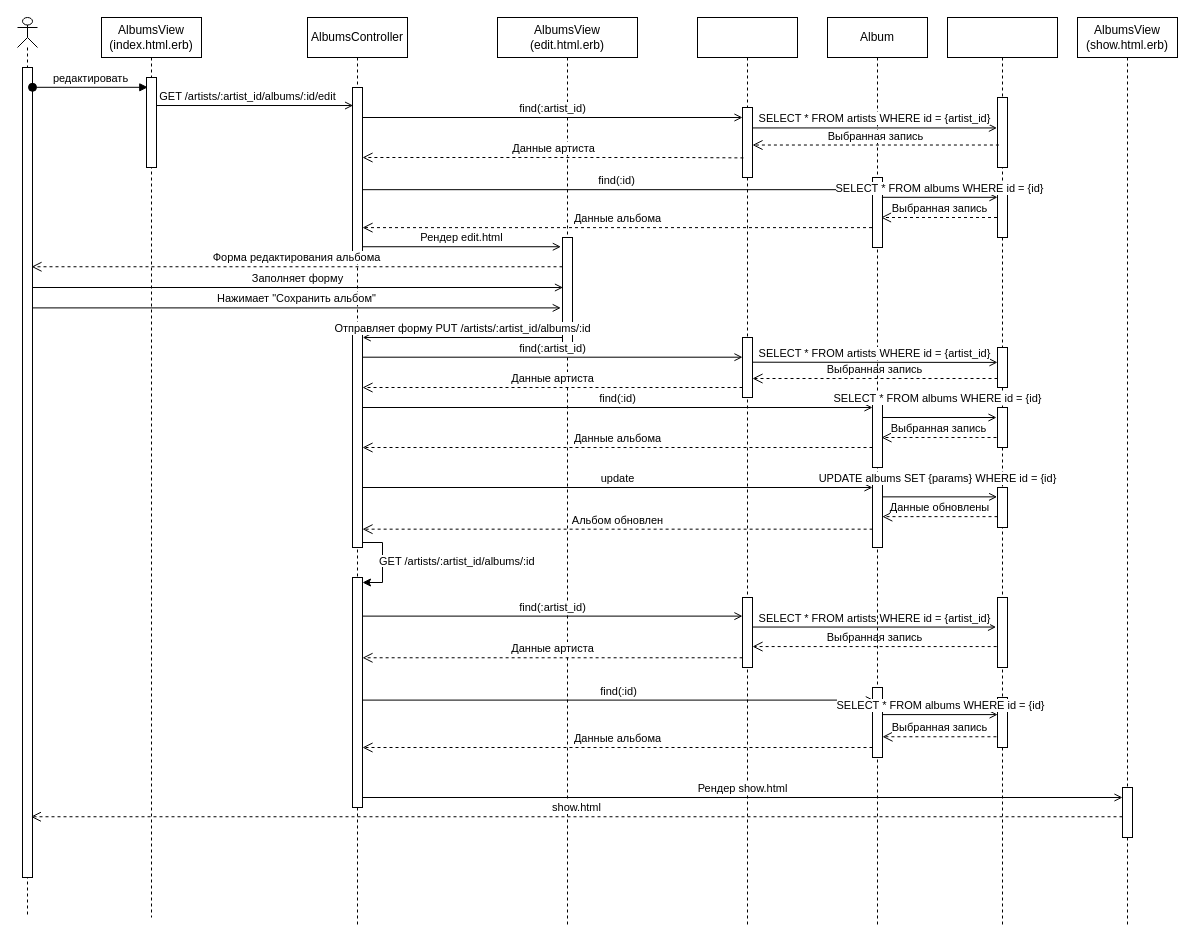
Some shapes in this 1195 by 945 pixel diagram are drawn without their labels. Here are the shapes that lost their labels. From the top down, the box of each, then its label:
(696, 16, 798, 928): Artist
(946, 16, 1058, 928): Database
